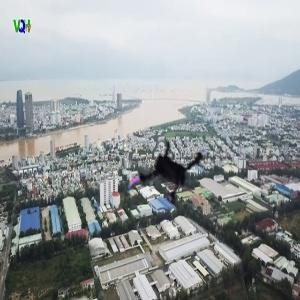drone: (123, 124, 224, 225)
